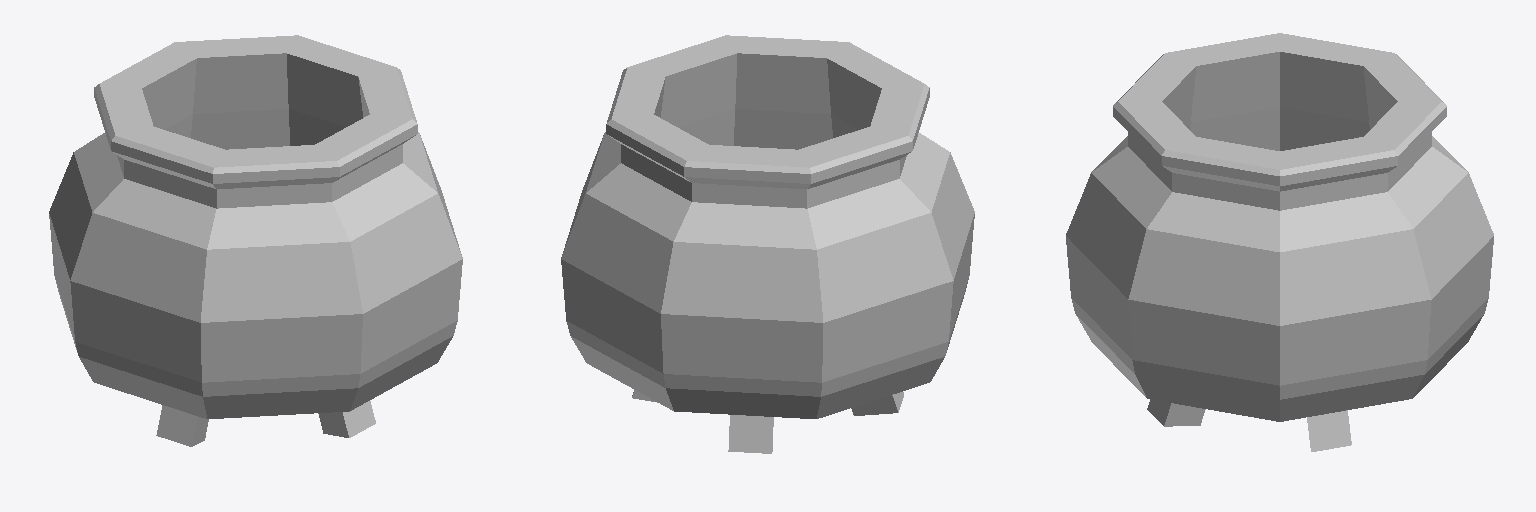
File: cauldron.obj
3 views of the same model, side by side, from view 1: azimuth 30°, elevation 25°; view 2: azimuth 150°, elevation 25°; view 3: azimuth 270°, elevation 25° (orthographic).
Visible parts, largest first — view 1: Cauldron; view 2: Cauldron; view 3: Cauldron.
Boxes of the visible parts, x1=… form: Cauldron: x1=49, y1=35, x2=462, y2=446; Cauldron: x1=561, y1=35, x2=974, y2=453; Cauldron: x1=1066, y1=33, x2=1493, y2=451.
Size of the model in its own units: 2.72 by 2.16 by 2.72.